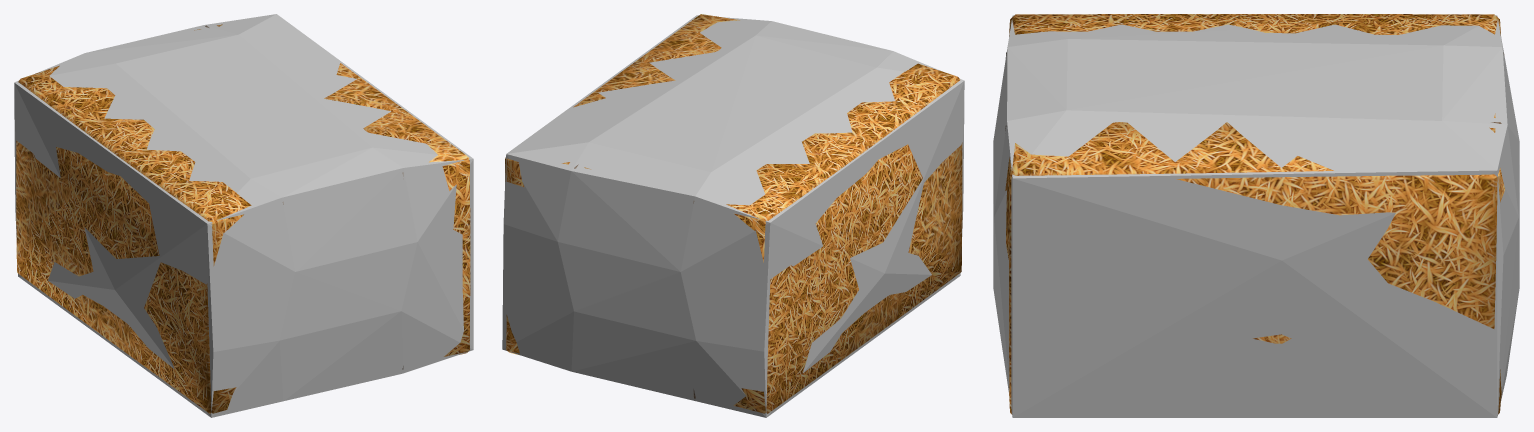
Rendered from SM_HayStack02.fbx.
3 renders of one model, left to right at view 1: azimuth 30°, elevation 25°; view 2: azimuth 150°, elevation 25°; view 3: azimuth 270°, elevation 25°, orthographic. The views are drawn at different scales.
Visible parts, largest first — view 1: SM_HayStack02_ConvexHulls, SM_HayStack02; view 2: SM_HayStack02_ConvexHulls, SM_HayStack02; view 3: SM_HayStack02_ConvexHulls, SM_HayStack02.
Boxes of the visible parts, left/top/right/bottom form: SM_HayStack02_ConvexHulls: left=14, top=14, right=473, bottom=417; SM_HayStack02: left=16, top=24, right=470, bottom=413; SM_HayStack02_ConvexHulls: left=502, top=15, right=964, bottom=417; SM_HayStack02: left=505, top=14, right=962, bottom=413; SM_HayStack02_ConvexHulls: left=993, top=15, right=1519, bottom=417; SM_HayStack02: left=1005, top=14, right=1505, bottom=414.
Size of the model in its own units: 95.72 by 126 by 69.63.
2 materials, 1 textured.
